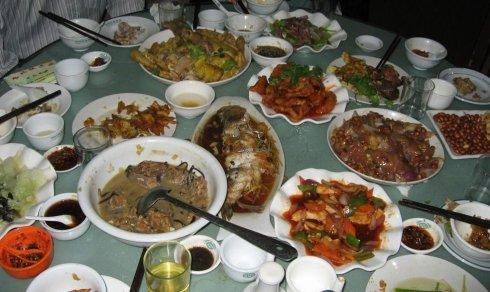food: (72, 128, 223, 244), (271, 161, 403, 271), (191, 90, 289, 213), (326, 99, 445, 186), (134, 20, 251, 88), (72, 89, 175, 152), (245, 59, 348, 120), (326, 50, 409, 103), (373, 252, 469, 289), (429, 105, 489, 158), (267, 10, 341, 51), (398, 213, 444, 253), (441, 64, 486, 104), (248, 31, 293, 66), (404, 33, 445, 67), (82, 48, 112, 72)
